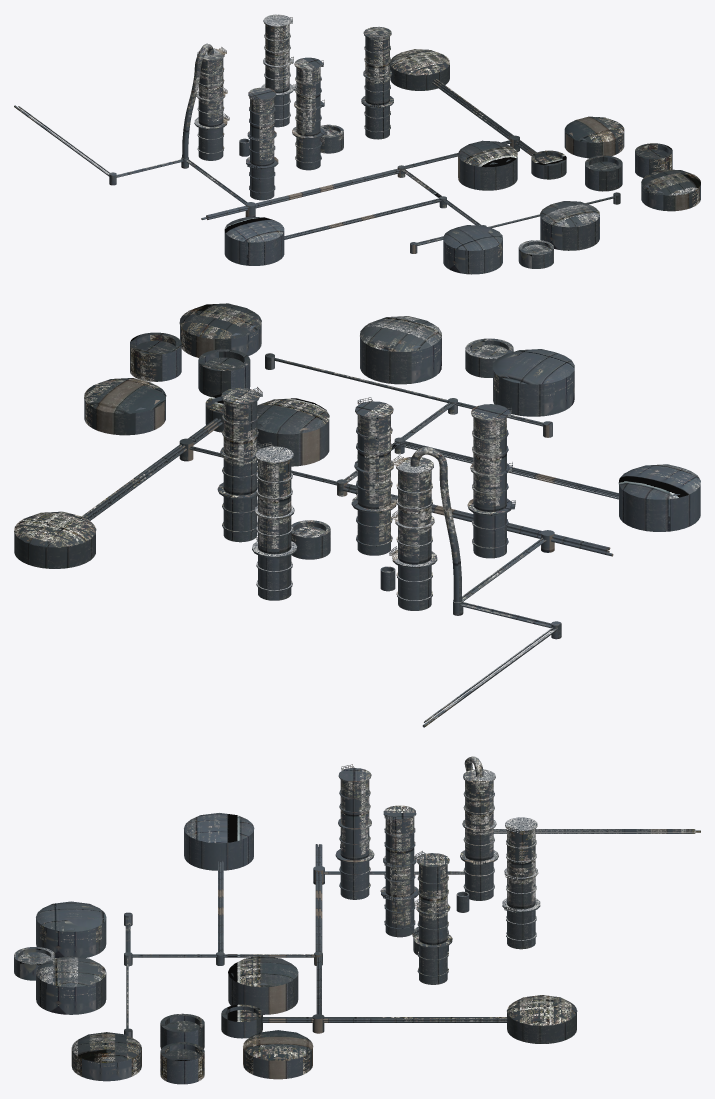
File: OilRefinery 1.fbx
The picture shows the model from 3 angles, top to bottom: view 1: azimuth 30°, elevation 25°; view 2: azimuth 150°, elevation 25°; view 3: azimuth 270°, elevation 25°; orthographic projection. The views are drawn at different scales.
Visible parts, largest first — view 1: Cylinder.215; view 2: Cylinder.215; view 3: Cylinder.215.
Boxes of the visible parts, x1,y1,x2,y2 form: Cylinder.215: (14,14,700,274); Cylinder.215: (14,303,700,727); Cylinder.215: (14,756,700,1084).
Bounding box in the file's own units: 842 × 217 × 981.
Materials: 1 (1 with a texture image).
